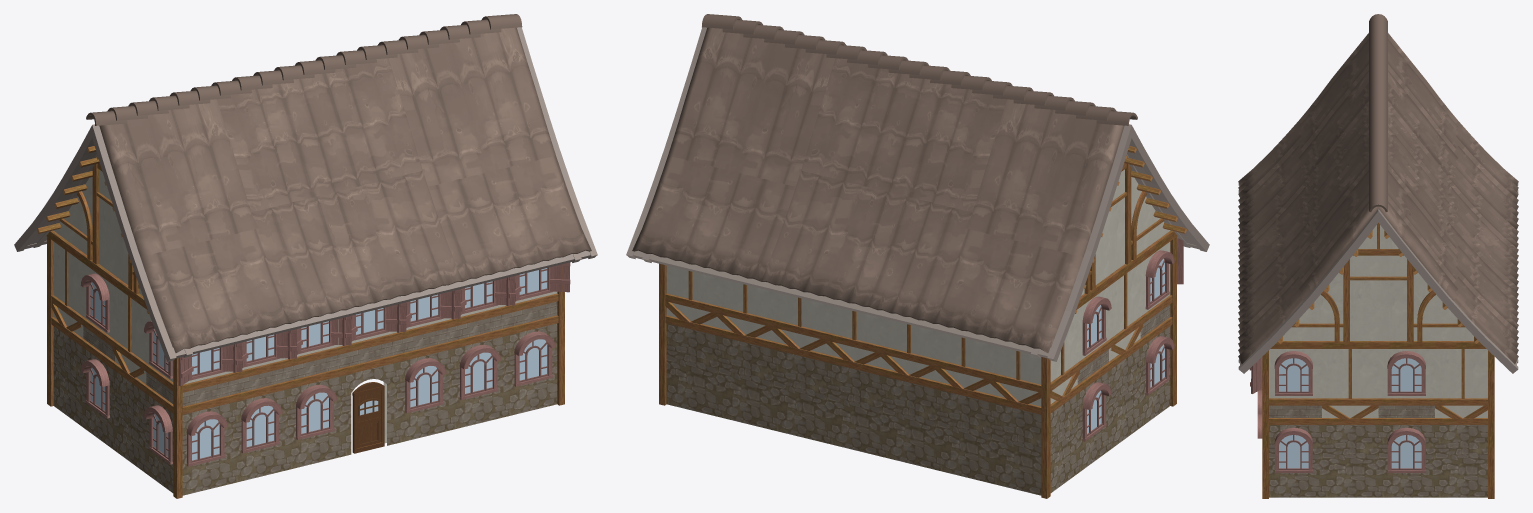
Rendered from hall.glb.
3 renders of one model, left to right at view 1: azimuth 30°, elevation 25°; view 2: azimuth 150°, elevation 25°; view 3: azimuth 270°, elevation 25°, orthographic. The views are drawn at different scales.
Visible parts, largest first — view 1: Roof_RoundTiles_8x14, Wall_UnevenBrick_Window_Wide_Round, Window_Wide_Round1, Wall_UnevenBrick_Door_Round, Wall_Plaster_Window_Wide_Round; view 2: Roof_RoundTiles_8x14, Wall_UnevenBrick_Door_Round, Wall_UnevenBrick_Window_Wide_Round, Window_Wide_Round1, Wall_Plaster_Window_Wide_Round; view 3: Roof_RoundTiles_8x14, Wall_UnevenBrick_Door_Round, Wall_UnevenBrick_Window_Wide_Round, Window_Wide_Round1, Wall_Plaster_Window_Wide_Round.
Boxes of the visible parts, x1,y1,x2,y2 form: Roof_RoundTiles_8x14: (14, 14, 597, 361); Wall_UnevenBrick_Window_Wide_Round: (51, 242, 558, 495); Window_Wide_Round1: (80, 262, 570, 466); Wall_UnevenBrick_Door_Round: (37, 146, 564, 498); Wall_Plaster_Window_Wide_Round: (83, 301, 557, 406); Roof_RoundTiles_8x14: (626, 14, 1209, 361); Wall_UnevenBrick_Door_Round: (659, 146, 1186, 498); Wall_UnevenBrick_Window_Wide_Round: (665, 242, 1172, 473); Window_Wide_Round1: (1082, 238, 1183, 441); Wall_Plaster_Window_Wide_Round: (1077, 304, 1170, 384); Roof_RoundTiles_8x14: (1238, 14, 1518, 373); Wall_UnevenBrick_Door_Round: (1262, 223, 1494, 498); Wall_UnevenBrick_Window_Wide_Round: (1269, 349, 1487, 497); Window_Wide_Round1: (1249, 351, 1425, 472); Wall_Plaster_Window_Wide_Round: (1269, 405, 1434, 417).
Bounding box in the file's own units: 15.71 × 12 × 9.95.
8 materials, 7 textured.
